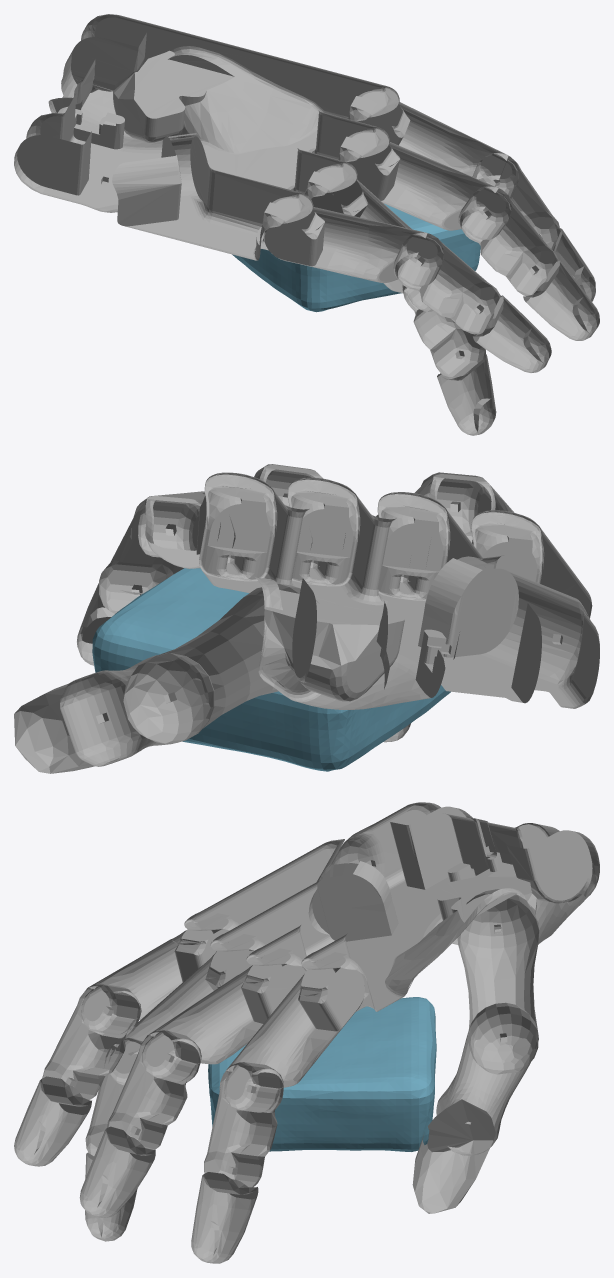
The model's file is ugg_9.glb.
3 renders of one model, top to bottom at view 1: azimuth 30°, elevation 25°; view 2: azimuth 150°, elevation 25°; view 3: azimuth 270°, elevation 25°, orthographic. The views are drawn at different scales.
Visible parts, largest first — view 1: world; view 2: world; view 3: world.
Boxes of the visible parts, left/top/right/bottom form: world: left=14, top=14, right=599, bottom=435; world: left=14, top=464, right=599, bottom=773; world: left=14, top=802, right=599, bottom=1263.
Size of the model in its own units: 1.22 by 0.7337 by 1.2.
